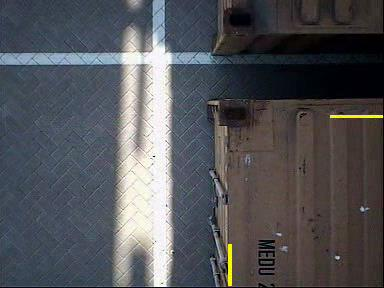groundmarker_2: (79, 33, 203, 128)
